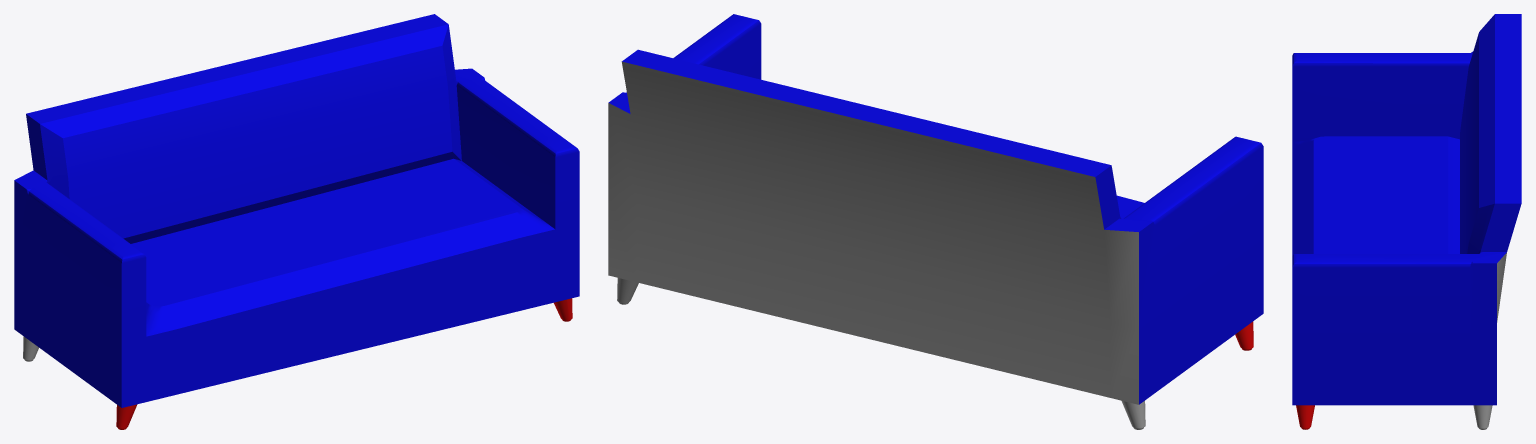
Rendered from Sofa.fbx.
3 renders of one model, left to right at view 1: azimuth 30°, elevation 25°; view 2: azimuth 150°, elevation 25°; view 3: azimuth 270°, elevation 25°, orthographic. The views are drawn at different scales.
Parts seen in each view (by area): view 1: Sofa; view 2: Sofa; view 3: Sofa.
Part boxes in pixels (box(x1,y1,x2,y2)): Sofa: box(14, 14, 579, 429); Sofa: box(608, 14, 1263, 429); Sofa: box(1292, 14, 1521, 429).
Bounding box in the file's own units: 285 × 135 × 130.
